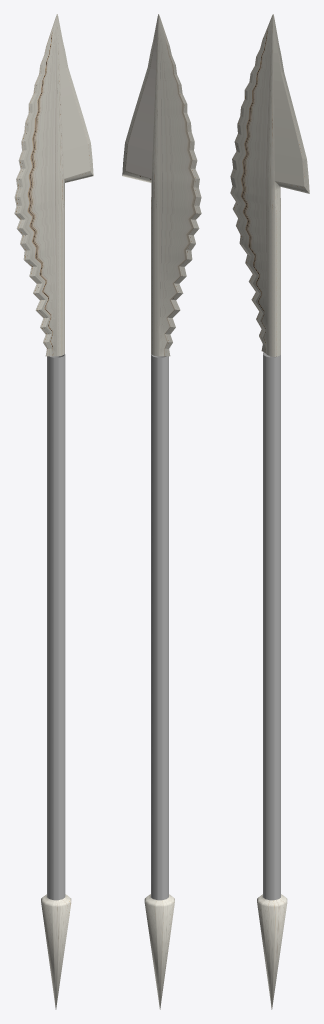
The model's file is mızrak_2.fbx.
3 renders of one model, left to right at view 1: azimuth 30°, elevation 25°; view 2: azimuth 150°, elevation 25°; view 3: azimuth 330°, elevation 25°, orthographic.
Visible parts, largest first — view 1: spear10.001, spear10; view 2: spear10.001, spear10; view 3: spear10.001, spear10.
Boxes of the visible parts, x1,y1,x2,y2 form: spear10.001: (14, 14, 93, 1009); spear10: (47, 354, 65, 900); spear10.001: (122, 14, 201, 1009); spear10: (151, 354, 168, 900); spear10.001: (230, 14, 309, 1009); spear10: (263, 352, 280, 900).
Size of the model in its own units: 15.24 by 183 by 5.06.
